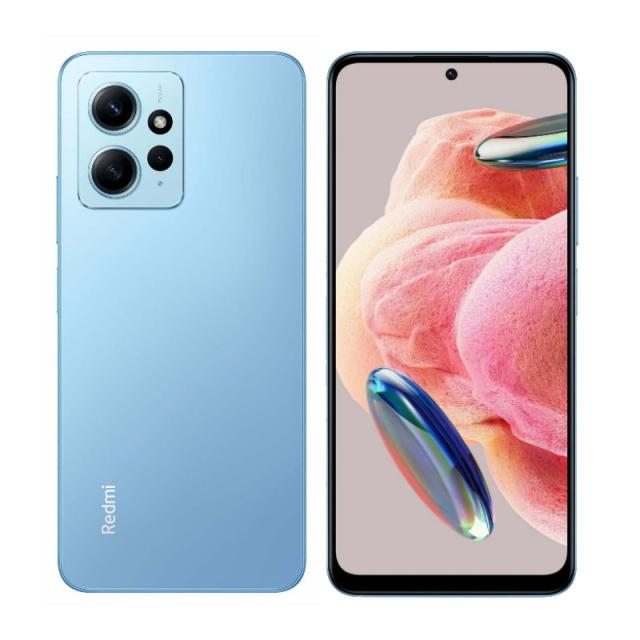mobile_phone: (329, 49, 592, 614), (48, 51, 309, 603)
